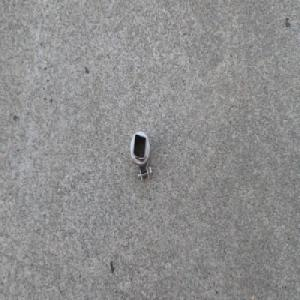MetalPart: (129, 130, 153, 186)
